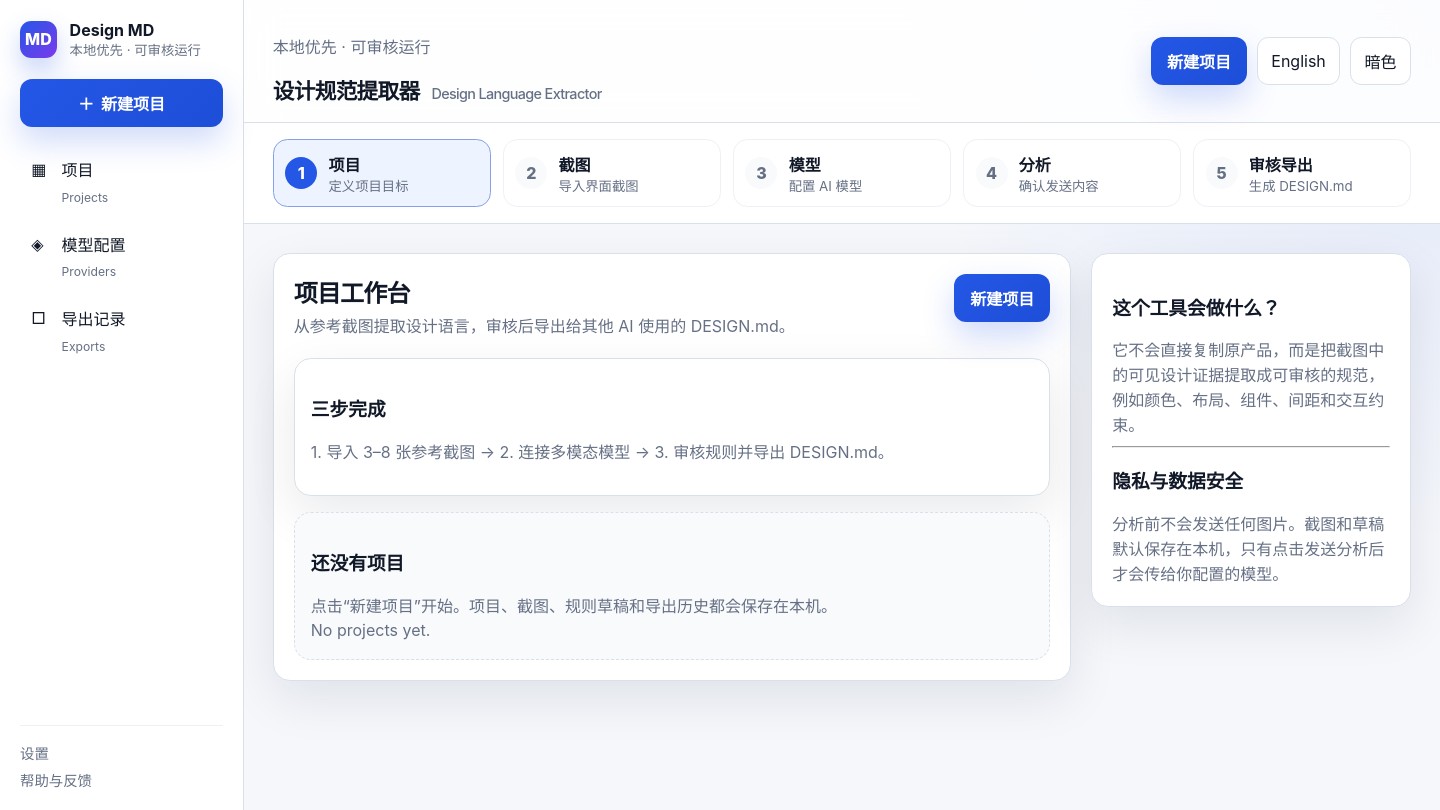
Test: ProjectListPage › shows empty state and validates project name
The image size is (1440, 810).
expect the text "No projects yet." is shown: met, box [311,620,430,640]
Click the button with aria-label "New project" at [1002, 298], box [954,274,1050,322]
(page scrolled)
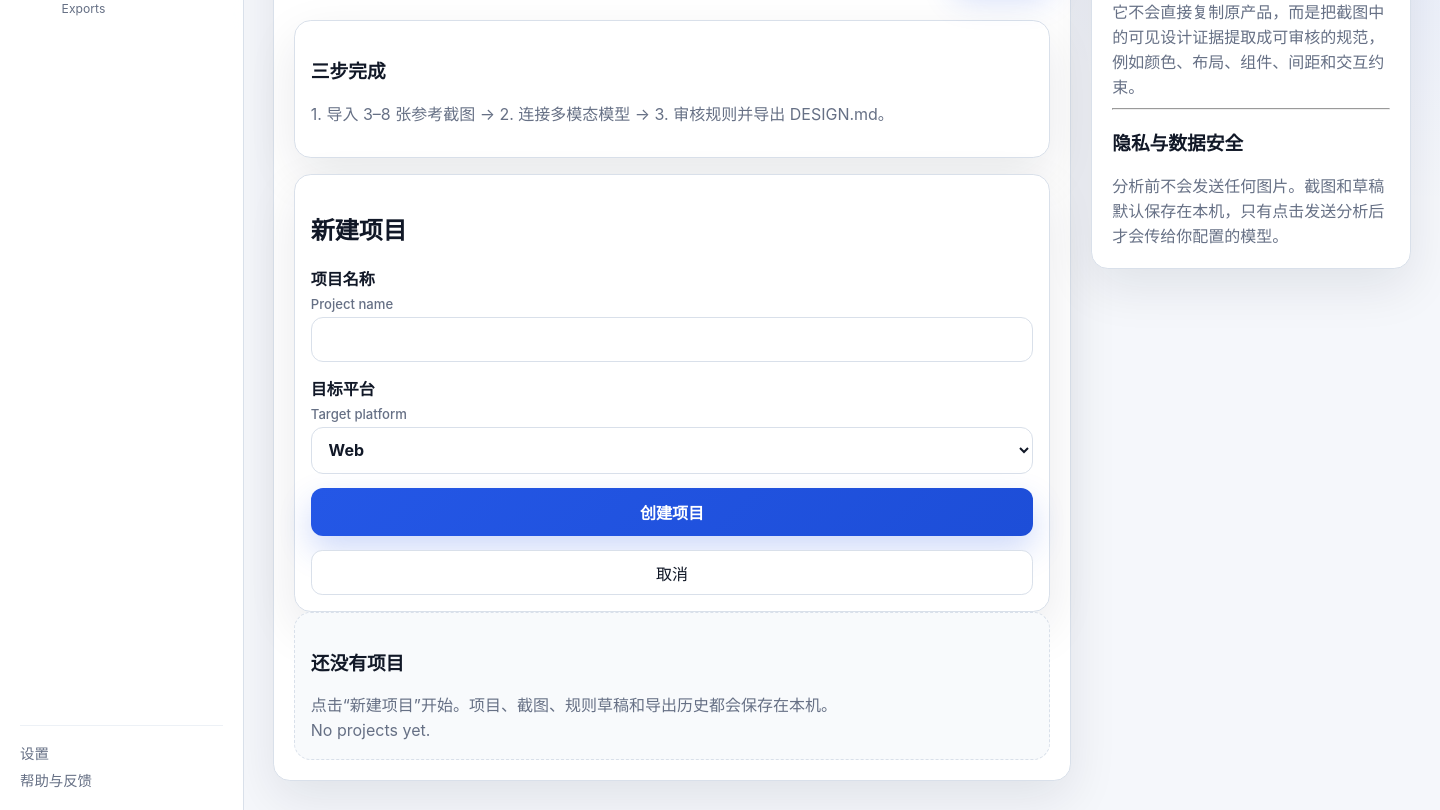
Click the button with aria-label "Create project" at [672, 512], box [311,488,1033,536]
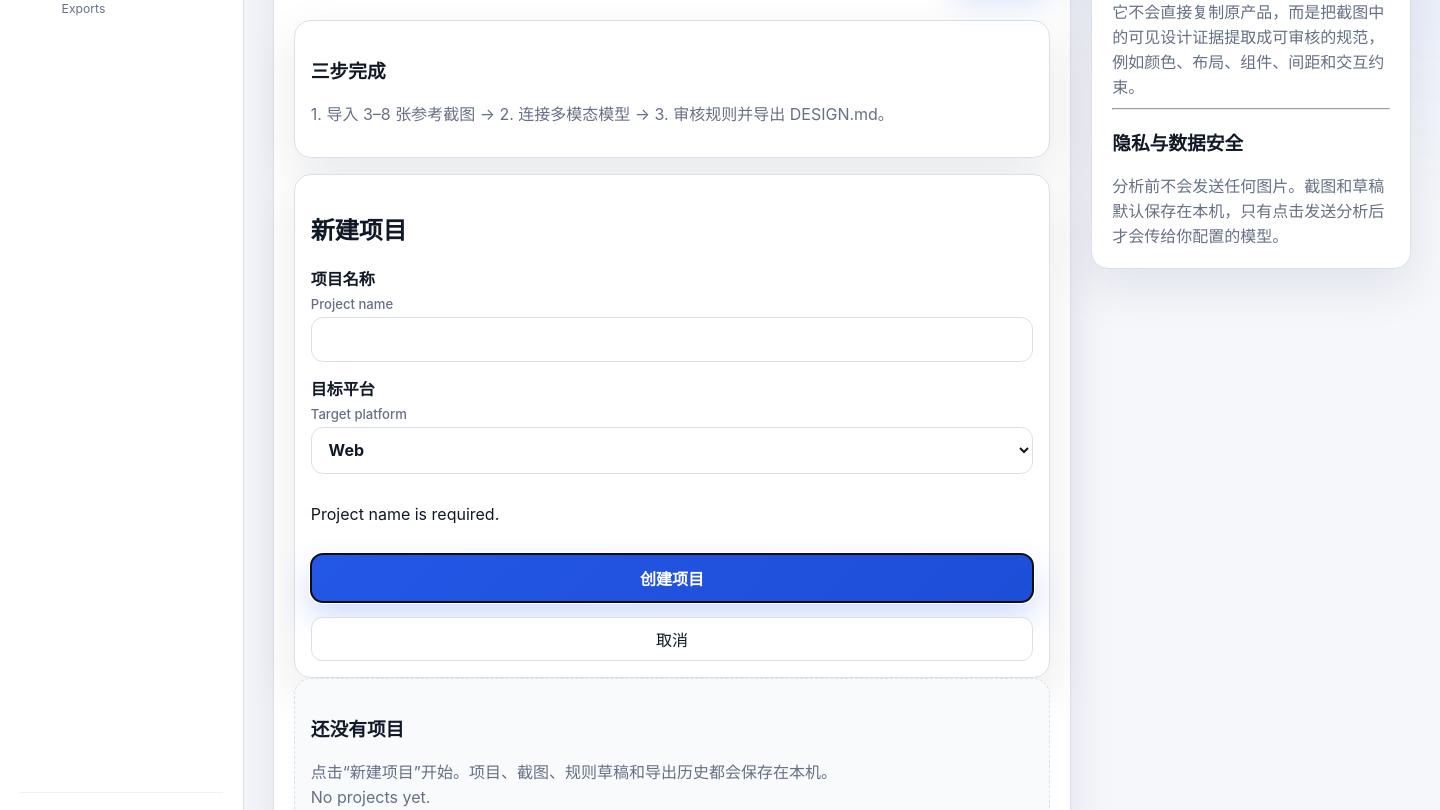
expect the text "Project name is required." is shown: met, box [311,504,499,524]
